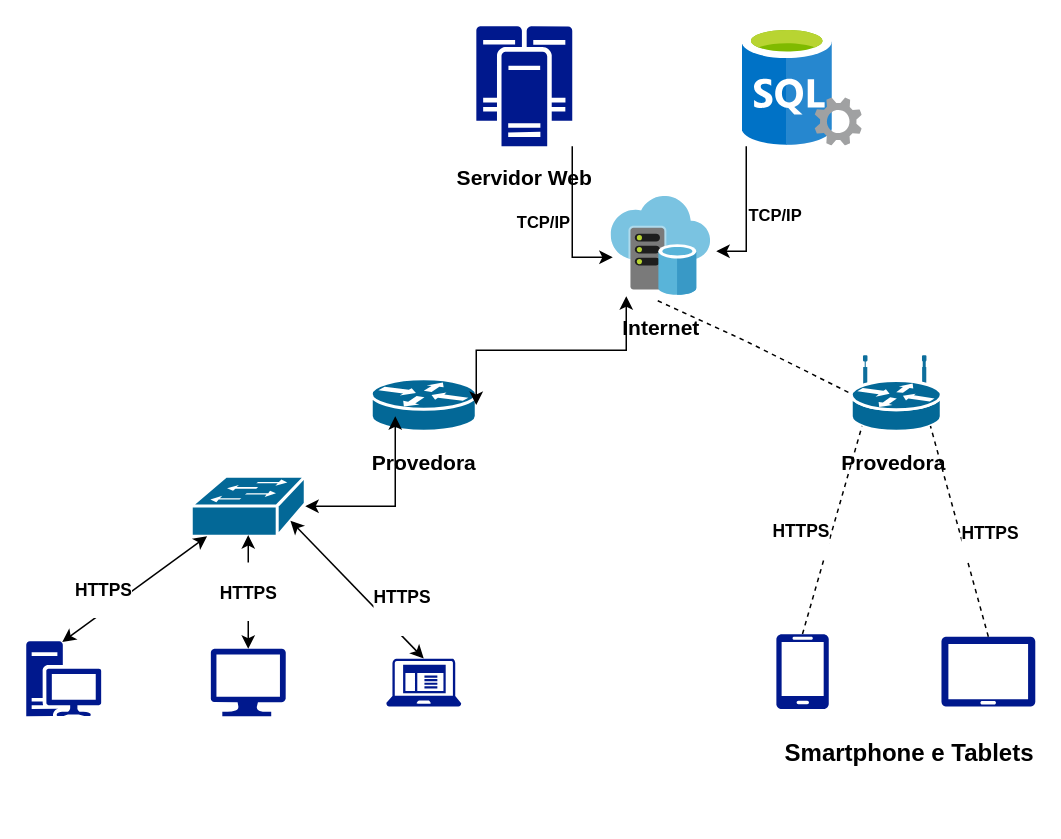
Image size: 1061x839. Some labels were removed from this diagram. The shapes that lost their labels are listed below. From the top down, each one's centre as x and y in pixels, then its label:
(x=802, y=86): Servidor de Base de Dados
(x=247, y=682): PCs
